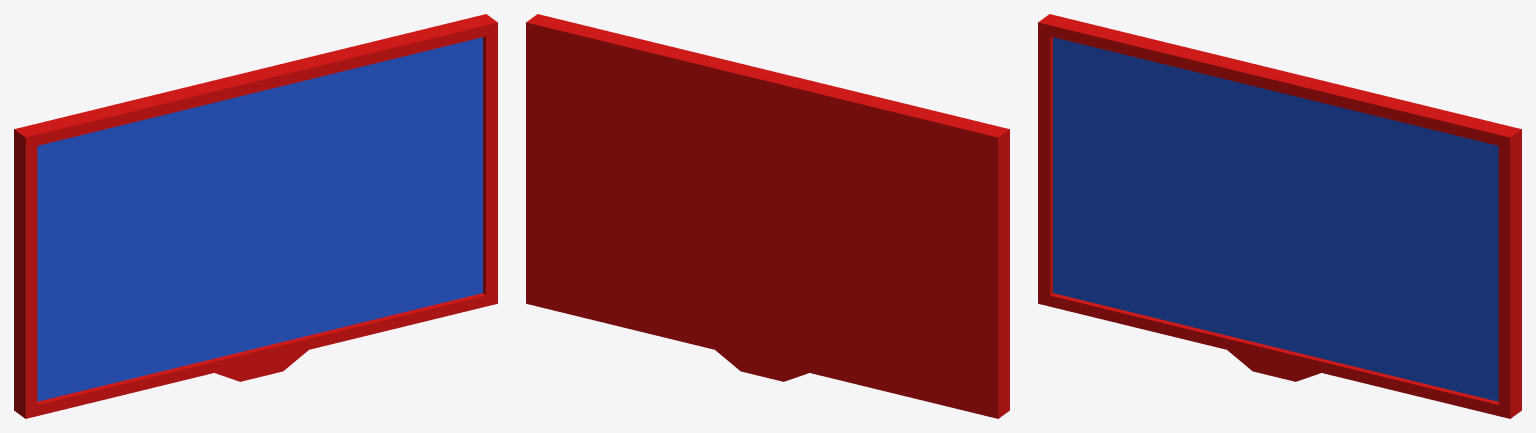
3 views of the same model, side by side, from view 1: azimuth 30°, elevation 25°; view 2: azimuth 150°, elevation 25°; view 3: azimuth 330°, elevation 25° (orthographic).
Parts seen in each view (by area): view 1: TV; view 2: TV; view 3: TV.
Part boxes in pixels (box(x1,y1,x2,y2)): TV: box(14, 14, 497, 418); TV: box(526, 14, 1009, 418); TV: box(1038, 14, 1521, 418).
Size of the model in its own units: 260 by 156 by 10.97.
